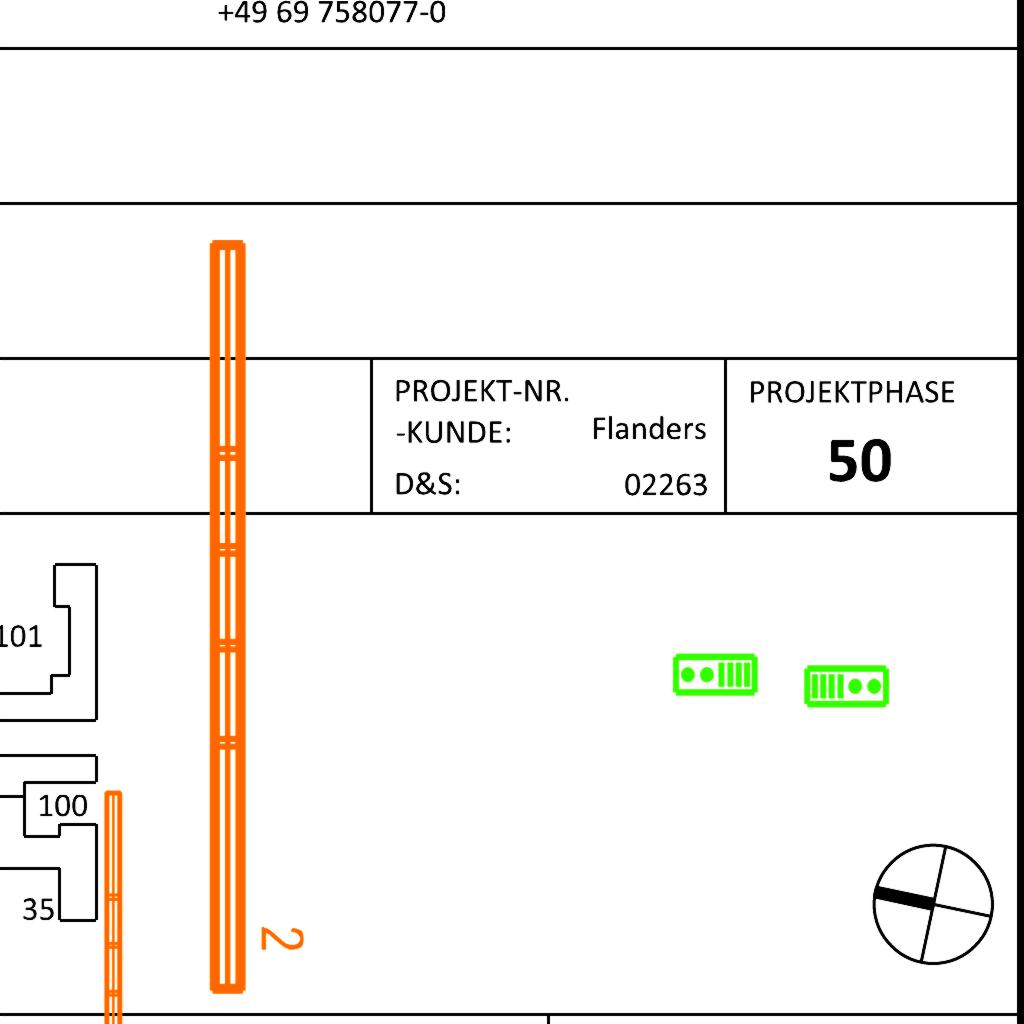Ambulanz_Pendelleuchte_LED: (197, 229, 309, 1003), (98, 785, 154, 1024)
Gegensprechanlage_mit_Video: (803, 662, 891, 709), (671, 652, 759, 699)
